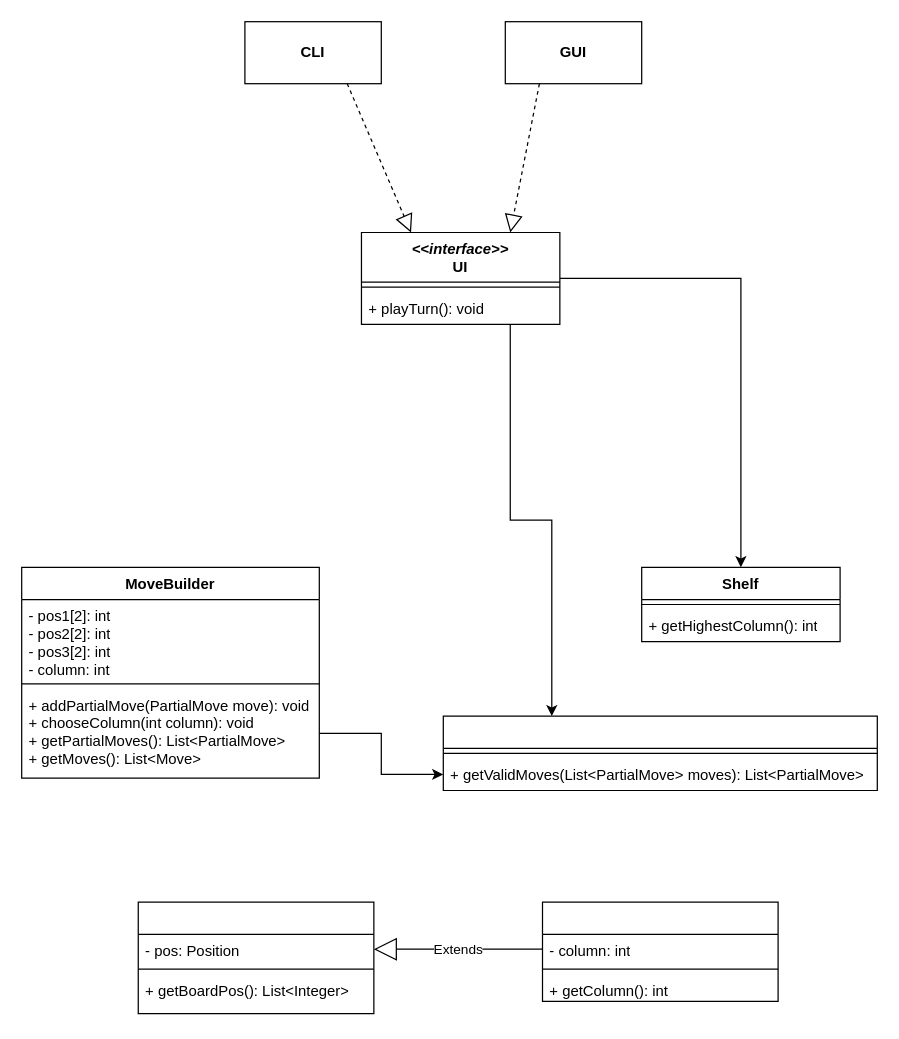
Some shapes in this 899 by 1039 pixel diagram are drawn without their labels. The box of each missing label's shape, as (x1, y1, x2, y2) in pixels:
Board: (442, 715, 877, 790)
Move: (541, 901, 778, 1001)
PartialMove: (137, 901, 374, 1014)
